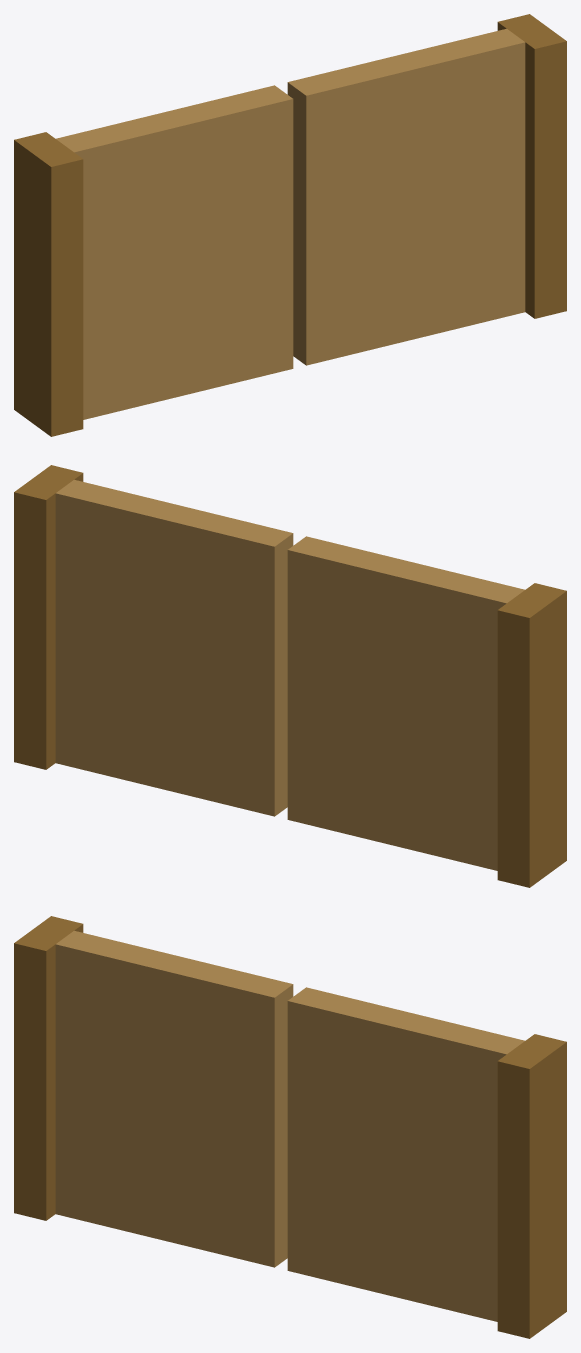
Rendered from AltaGames_Gates.fbx.
3 views of the same model, one above another, from view 1: azimuth 30°, elevation 25°; view 2: azimuth 150°, elevation 25°; view 3: azimuth 330°, elevation 25° (orthographic).
Parts seen in each view (by area): view 1: Door_1, Door_2, Walls; view 2: Door_1, Door_2, Walls; view 3: Door_2, Door_1, Walls.
Boxes of the visible parts, bbox=[...] form: Door_1: bbox=[287, 28, 525, 365]; Door_2: bbox=[56, 85, 293, 419]; Walls: bbox=[14, 14, 566, 436]; Door_1: bbox=[55, 479, 293, 816]; Door_2: bbox=[287, 536, 524, 870]; Walls: bbox=[14, 465, 566, 887]; Door_2: bbox=[55, 930, 293, 1267]; Door_1: bbox=[287, 987, 524, 1321]; Walls: bbox=[14, 916, 566, 1338].
Size of the model in its own units: 100 by 50 by 12.5.
3 materials, 3 textured.
